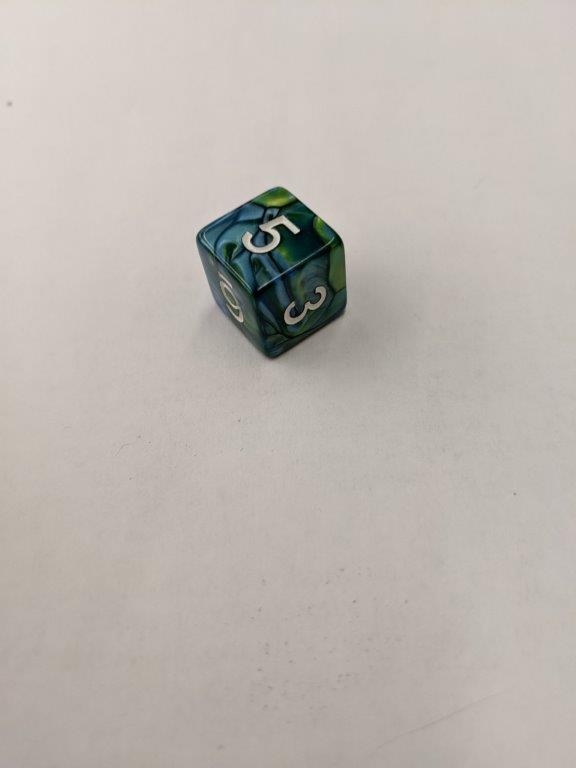d6-5: (195, 186, 346, 362)
